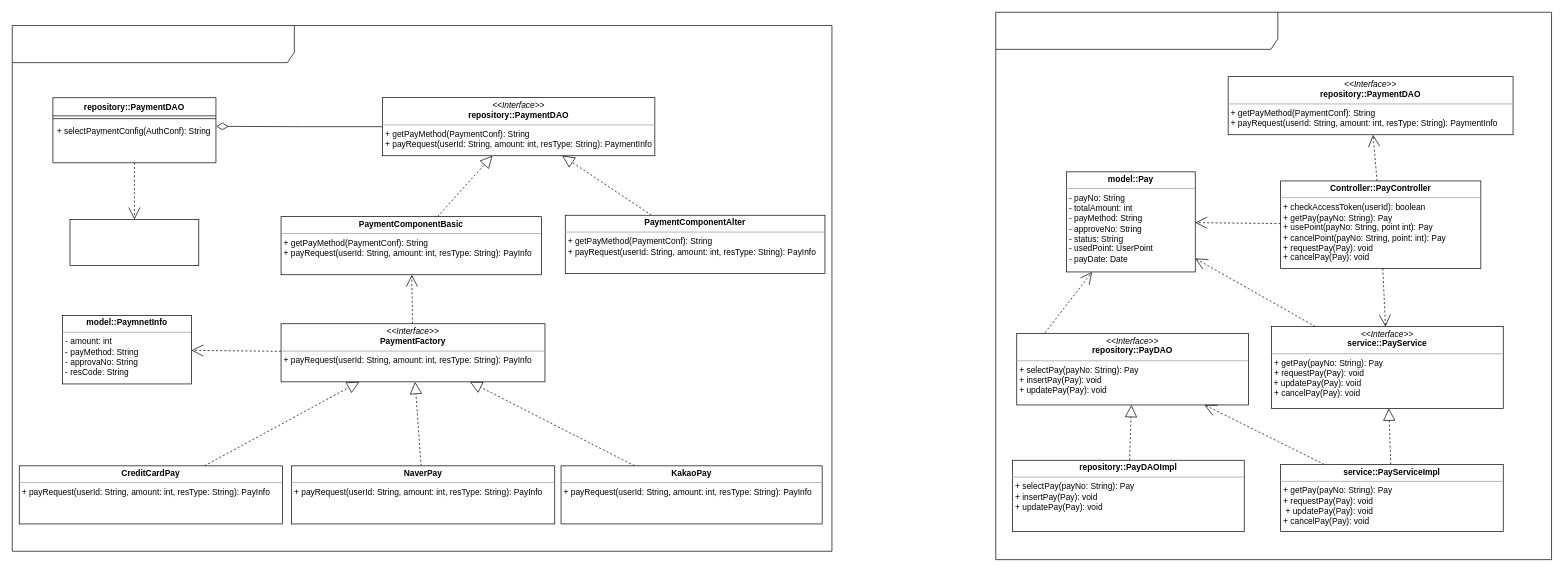
This 1564x572 diagram has some shape labels left out. Each missing label, with the box of its shape:
model::PaymentConf - payConf: String: (69, 219, 199, 266)
Module - Pay: (995, 12, 1552, 560)
Module - Pay - External Payment: (12, 25, 832, 551)
